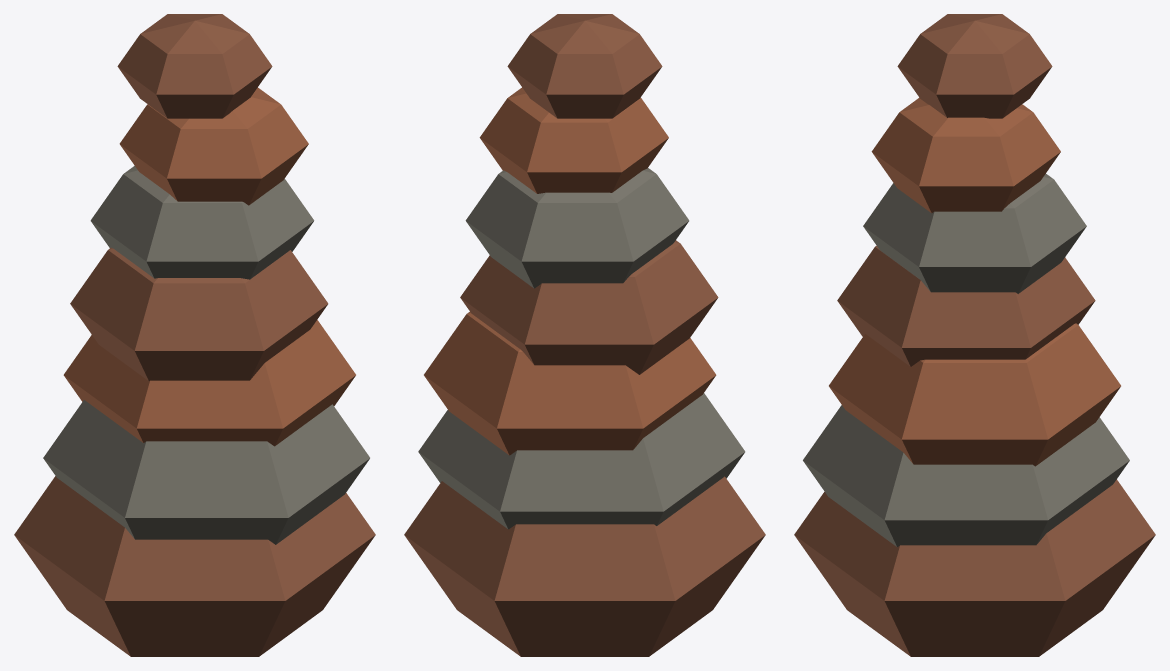
Rendered from a2f_cairn_red.glb.
3 views of the same model, side by side, from view 1: azimuth 30°, elevation 25°; view 2: azimuth 150°, elevation 25°; view 3: azimuth 270°, elevation 25° (orthographic).
Parts seen in each view (by area): view 1: a2f_cairn_red; view 2: a2f_cairn_red; view 3: a2f_cairn_red.
Boxes of the visible parts, x1,y1,x2,y2 form: a2f_cairn_red: (14, 14, 375, 656); a2f_cairn_red: (404, 14, 765, 656); a2f_cairn_red: (794, 14, 1155, 656).
Size of the model in its own units: 0.7275 by 1.59 by 0.84.
